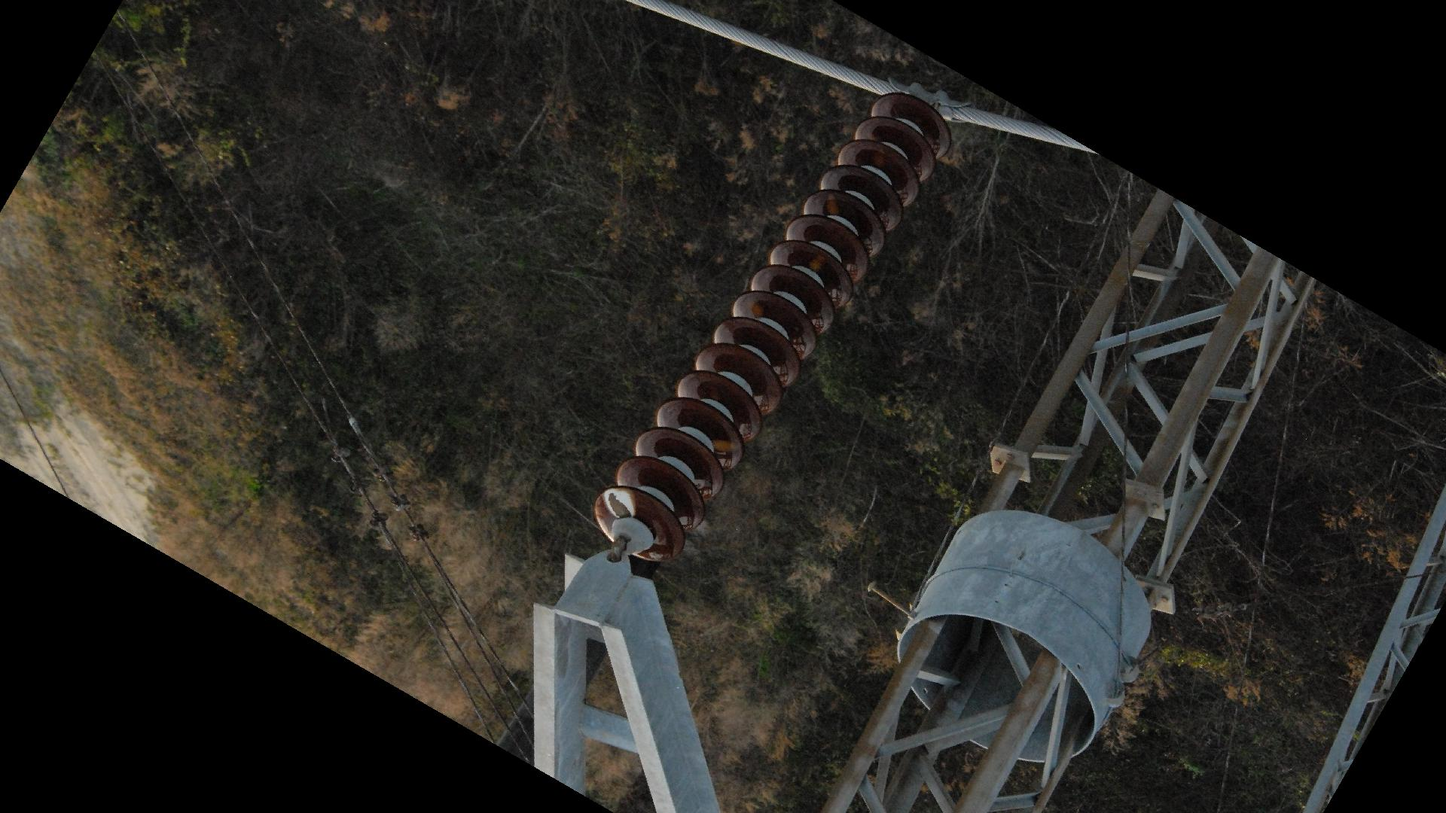insulator: (589, 86, 955, 568)
insulator_flashover: (601, 486, 637, 519), (710, 438, 742, 454)
